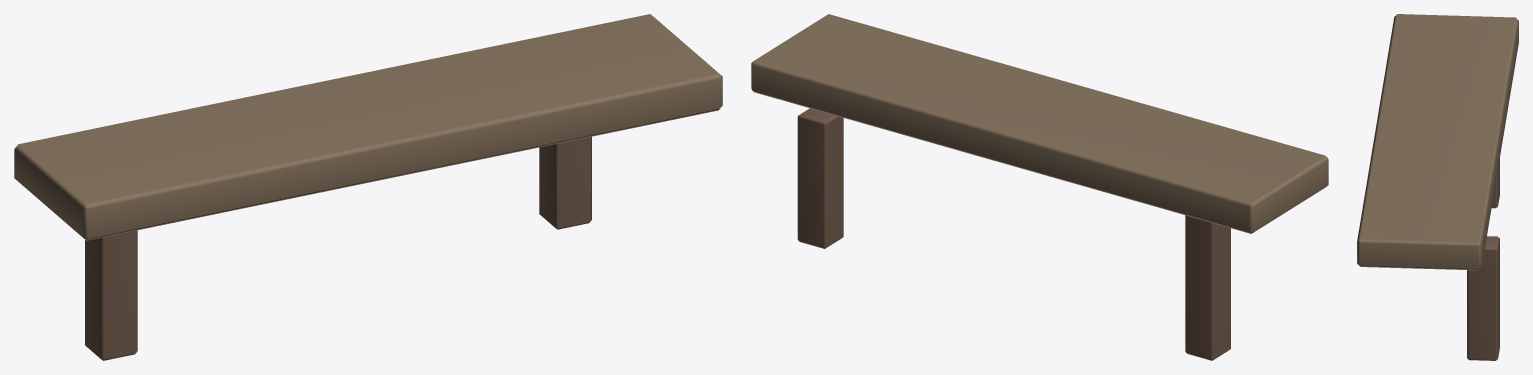
File: prop_shelf_crooked_01.glb
3 renders of one model, left to right at view 1: azimuth 30°, elevation 25°; view 2: azimuth 150°, elevation 25°; view 3: azimuth 270°, elevation 25°, orthographic. The views are drawn at different scales.
Visible parts, largest first — view 1: shelf_board_tilted.002, shelf_left_bracket.002, shelf_right_bracket.002; view 2: shelf_board_tilted.002, shelf_left_bracket.002, shelf_right_bracket.002; view 3: shelf_board_tilted.002, shelf_right_bracket.002, shelf_left_bracket.002.
Boxes of the visible parts, <box> form: shelf_board_tilted.002: <box>14,14,722,240</box>; shelf_left_bracket.002: <box>85,230,137,360</box>; shelf_right_bracket.002: <box>539,136,591,229</box>; shelf_board_tilted.002: <box>751,14,1328,233</box>; shelf_left_bracket.002: <box>1185,215,1230,360</box>; shelf_right_bracket.002: <box>797,108,843,248</box>; shelf_board_tilted.002: <box>1357,14,1518,270</box>; shelf_right_bracket.002: <box>1467,236,1499,360</box>; shelf_left_bracket.002: <box>1491,158,1499,208</box>.
Bounding box in the file's own units: 0.9622 × 0.3075 × 0.2849.
